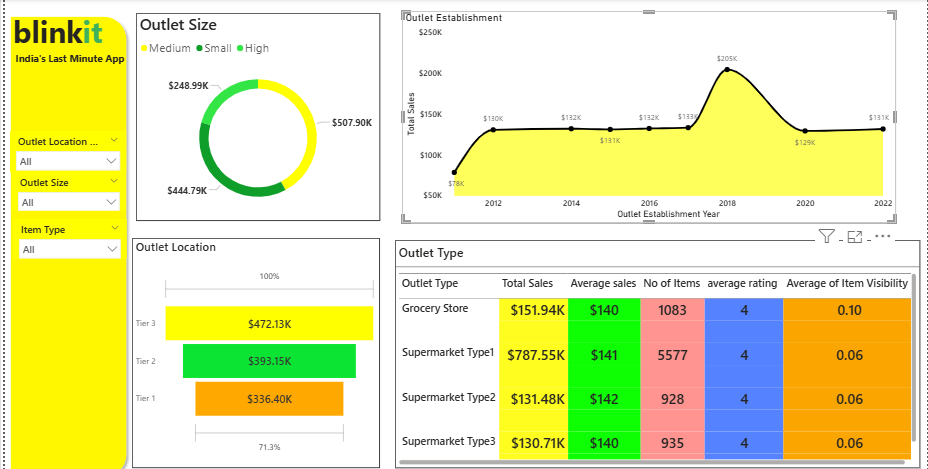

What the dashboard file says about the page in this screenshot:
{"tool":"powerbi","page":{"name":"Page 2","canvas":[1500,800],"ordinal":1},"visuals":[{"type":"lineChart","title":" Outlet Establishment ","fields":{"Category":["BLINKIT ANALYSIS.Outlet Establishment Year"],"Y":["BLINKIT ANALYSIS.Total Sales"]},"box":[674.8,19.5,774,344.7],"z":0},{"type":"shape","box":[0,19.5,206.5,767.5],"z":1000},{"type":"textbox","box":[8.1,14.6,198.4,125.2],"z":2000},{"type":"textbox","box":[4.9,79.7,201.6,47.2],"z":3000},{"type":"image","box":[1352.8,29.3,65,43.9],"z":4000},{"type":"donutChart","title":"Outlet Size","fields":{"Y":["BLINKIT ANALYSIS.Total Sales"],"Category":["BLINKIT ANALYSIS.Outlet Size"]},"box":[213,22.8,396.7,338.2],"z":5000},{"type":"funnel","title":" Outlet Location ","fields":{"Y":["BLINKIT ANALYSIS.Total Sales"],"Category":["BLINKIT ANALYSIS.Outlet Location Type"]},"box":[206.5,388.6,403.3,374],"z":6000},{"type":"pivotTable","title":"Outlet Type","fields":{"Rows":["BLINKIT ANALYSIS.Outlet Type"],"Values":["BLINKIT ANALYSIS.Total Sales","BLINKIT ANALYSIS.Average sales","BLINKIT ANALYSIS.No of Items","BLINKIT ANALYSIS.average rating","Avg(BLINKIT ANALYSIS.Item Visibility)"]},"box":[634.1,391.9,853.7,370.7],"z":7000},{"type":"slicer","fields":{"Values":["BLINKIT ANALYSIS.Outlet Location Type"]},"box":[8.1,214.6,188.6,66.7],"z":8000},{"type":"slicer","fields":{"Values":["BLINKIT ANALYSIS.Outlet Size"]},"box":[11.4,281.3,185.4,63.4],"z":9000},{"type":"slicer","fields":{"Values":["BLINKIT ANALYSIS.Item Type"]},"box":[13,357.7,185.4,65],"z":10000}]}

Visuals, with their boxes on the page's 1500x800 design canvas (x1, y1, x2, y2). These are canvas units, not pixel positions in the 928x469 screenshot, which may show the page scaled, cropped or inside an application window:
" Outlet Establishment " lineChart: 675:20:1449:364
shape: 0:20:206:787
textbox: 8:15:206:140
textbox: 5:80:206:127
image: 1353:29:1418:73
"Outlet Size" donutChart: 213:23:610:361
" Outlet Location " funnel: 206:389:610:763
"Outlet Type" pivotTable: 634:392:1488:763
slicer - BLINKIT ANALYSIS.Outlet Location Type: 8:215:197:281
slicer - BLINKIT ANALYSIS.Outlet Size: 11:281:197:345
slicer - BLINKIT ANALYSIS.Item Type: 13:358:198:423
